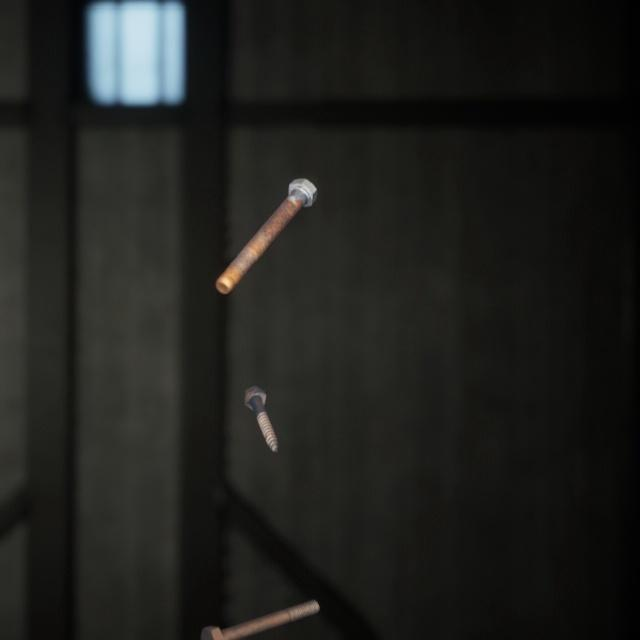bolt: (211, 158, 321, 281), (196, 571, 323, 635), (238, 361, 283, 435)
